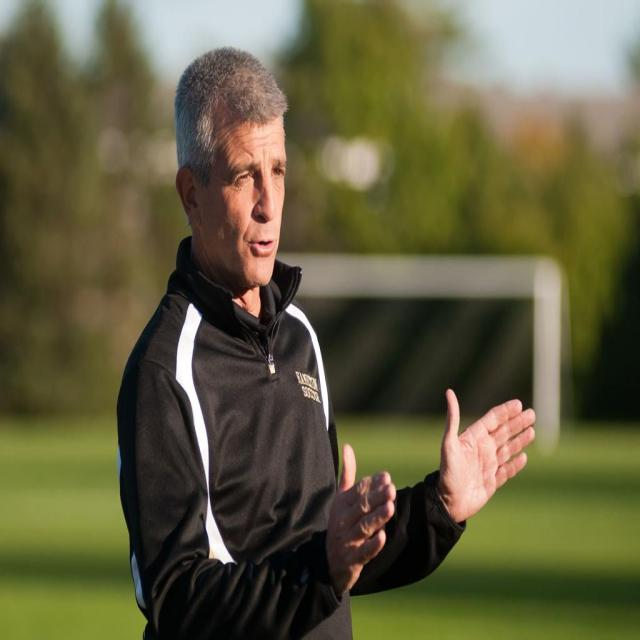Face: (186, 95, 304, 294)
